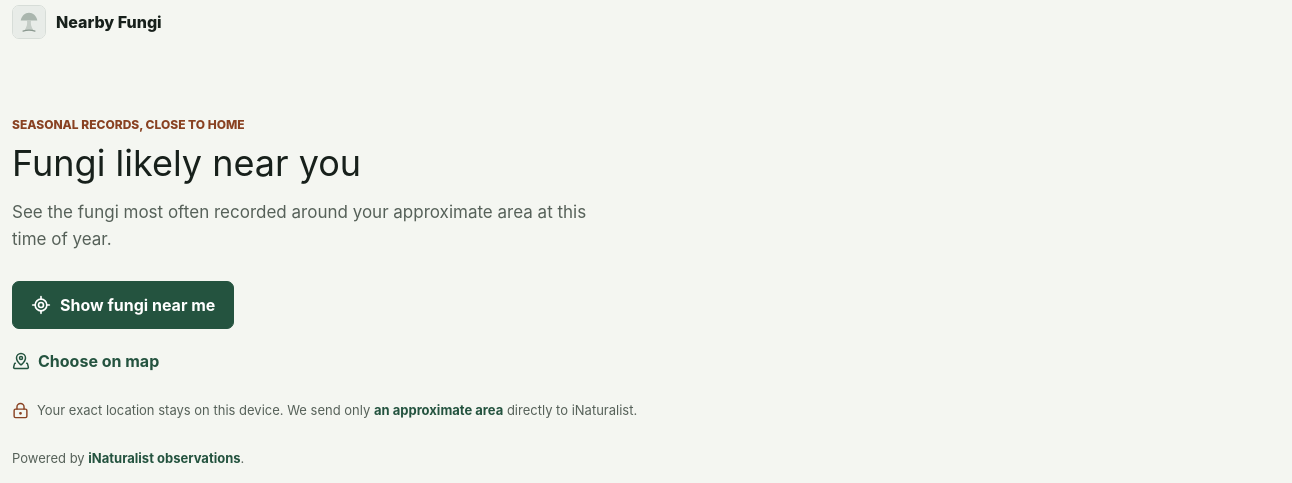
it: LocationExperience › offers map recovery when location is unavailable
Click the button "Show fungi near me".
click(123, 305)  # box x1=12 y1=281 x2=234 y2=329
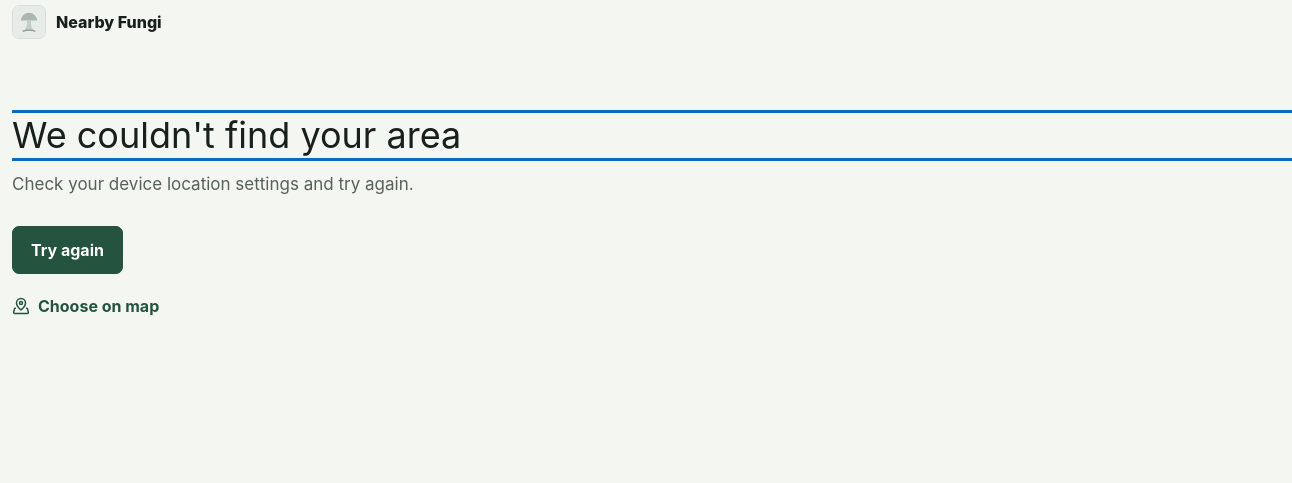
Check: the heading "We couldn't find your area" is shown, box x1=12 y1=113 x2=461 y2=157
